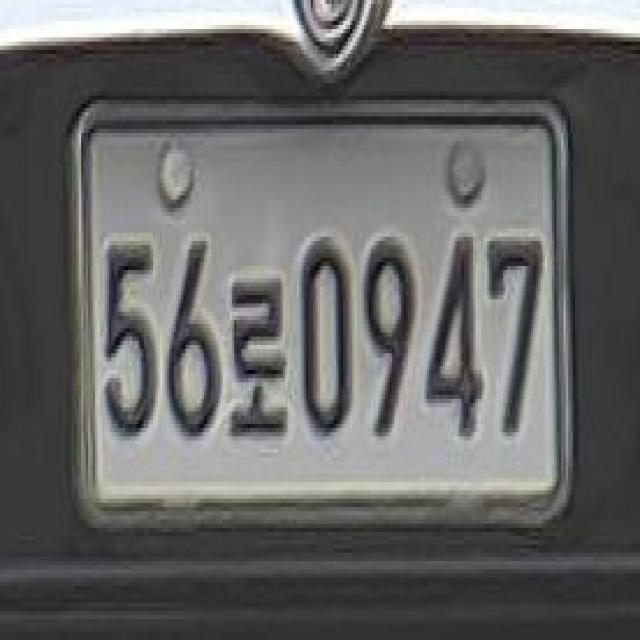illegal_plate: (70, 90, 574, 538)
